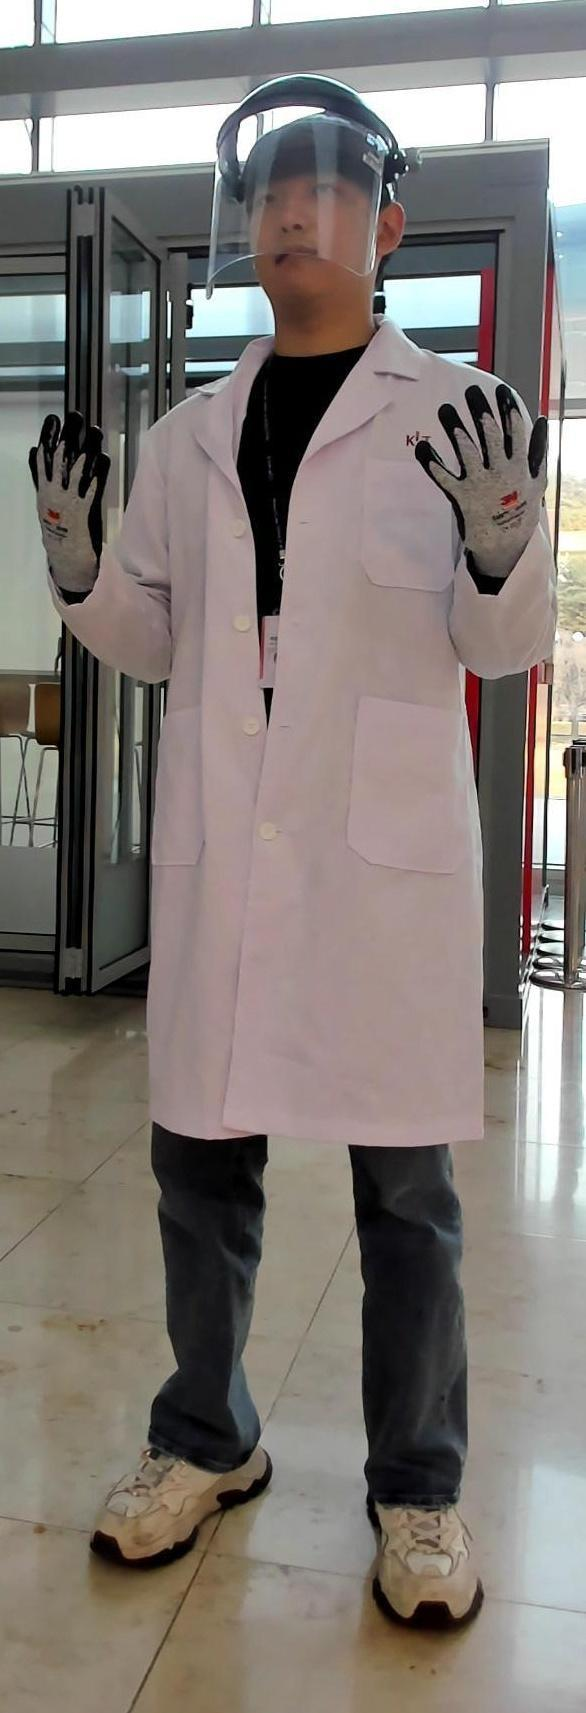lab_coat: (144, 401, 468, 1126)
